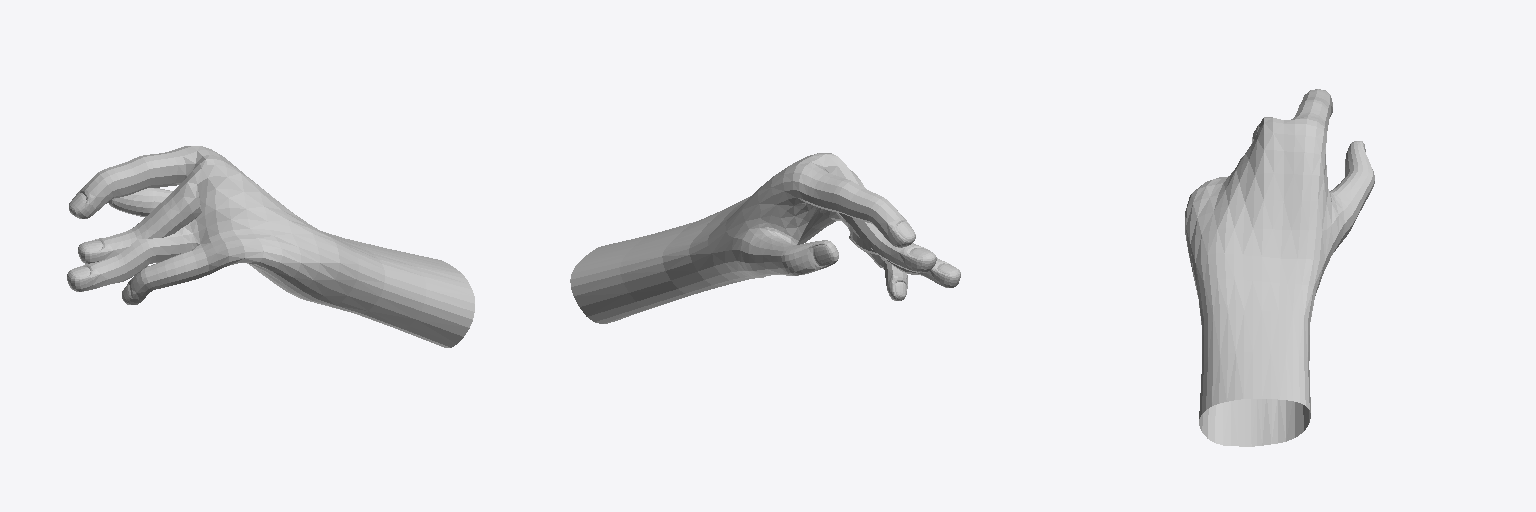
The model's file is Rigged Hand.obj.
3 renders of one model, left to right at view 1: azimuth 30°, elevation 25°; view 2: azimuth 150°, elevation 25°; view 3: azimuth 270°, elevation 25°, orthographic.
Visible parts, largest first — view 1: Cube.005_Cube.017; view 2: Cube.005_Cube.017; view 3: Cube.005_Cube.017.
Part boxes in pixels (bbox=[...]): Cube.005_Cube.017: bbox=[67, 146, 474, 347]; Cube.005_Cube.017: bbox=[570, 153, 960, 323]; Cube.005_Cube.017: bbox=[1185, 89, 1374, 446].
Bounding box in the file's own units: 0.2249 × 0.1277 × 0.0978.